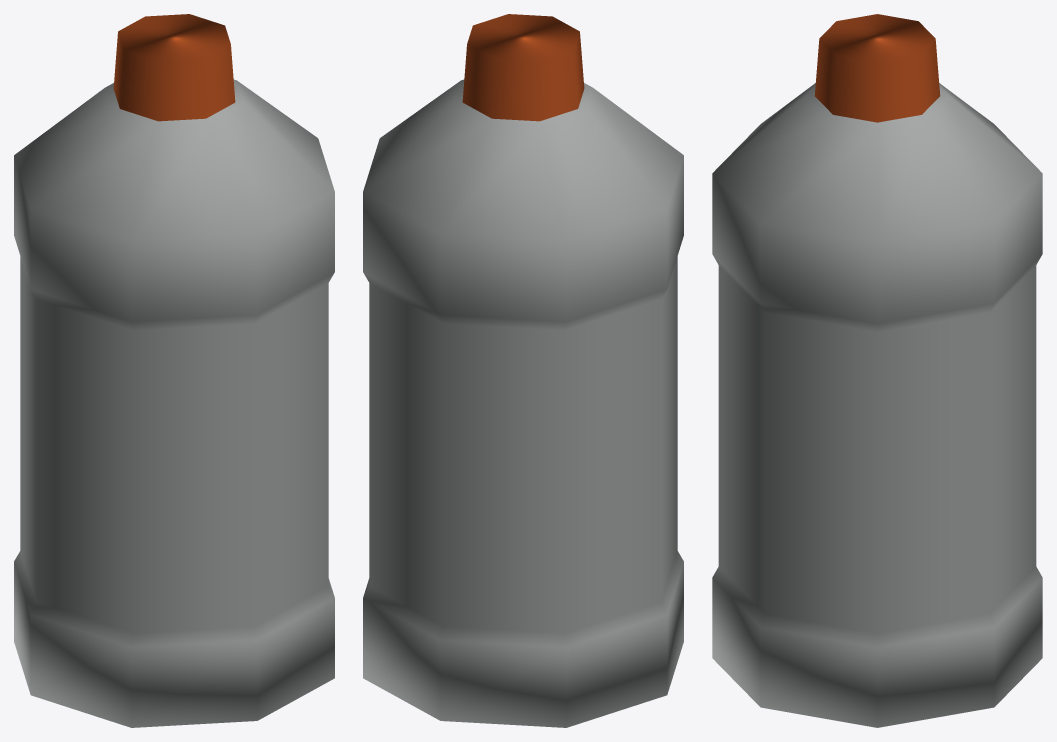
File: bottle1.fbx
3 views of the same model, side by side, from view 1: azimuth 30°, elevation 25°; view 2: azimuth 150°, elevation 25°; view 3: azimuth 270°, elevation 25° (orthographic).
Visible parts, largest first — view 1: BottlePlastic2.2; view 2: BottlePlastic2.2; view 3: BottlePlastic2.2.
Boxes of the visible parts, x1,y1,x2,y2 form: BottlePlastic2.2: (14, 14, 334, 727); BottlePlastic2.2: (363, 14, 683, 727); BottlePlastic2.2: (712, 14, 1042, 727).
Size of the model in its own units: 58.41 by 121 by 58.41.
